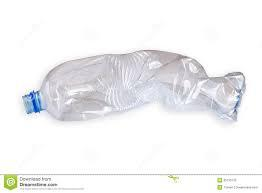BIODEGRADABLE: (20, 50, 246, 130)
